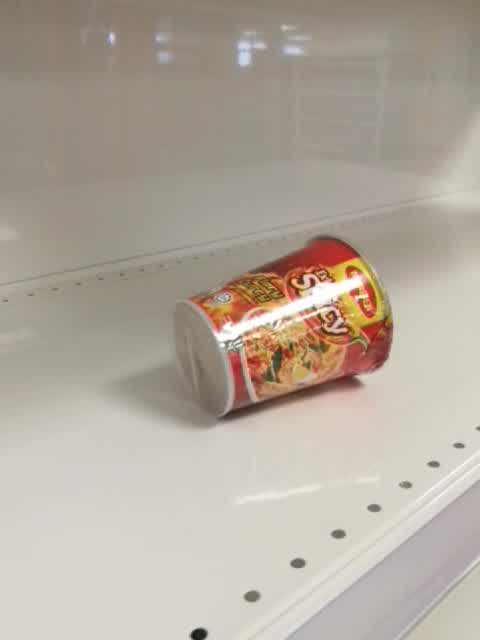maggi: (169, 232, 393, 420)
